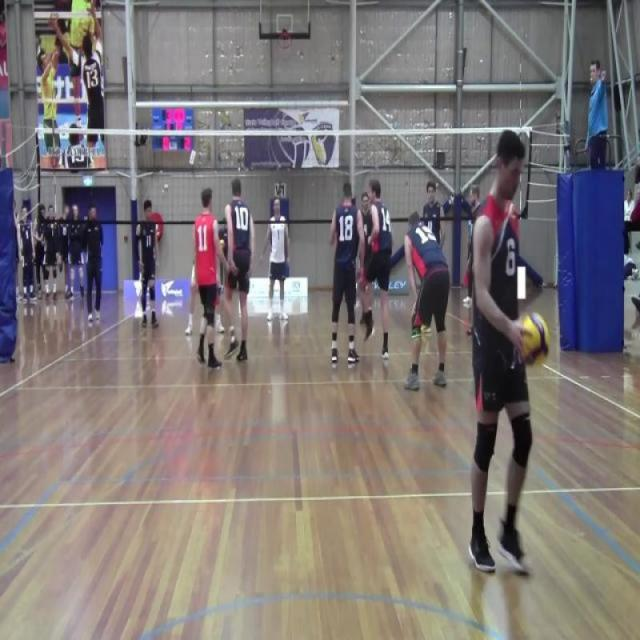volleyball: (518, 308, 552, 372), (218, 237, 226, 249)
